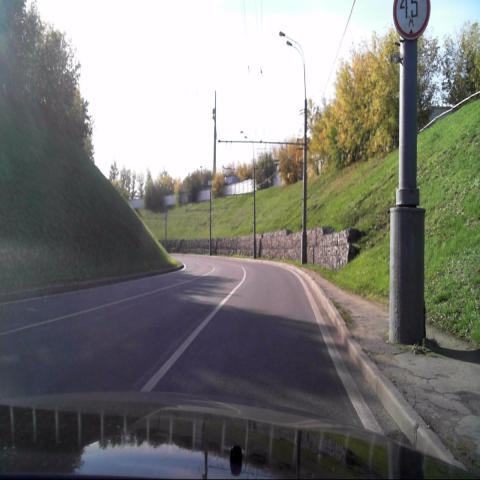3_13: (388, 0, 431, 41)
